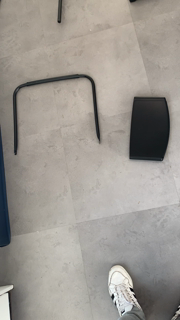Back: (126, 94, 173, 166)
C pipe: (11, 73, 103, 158)
